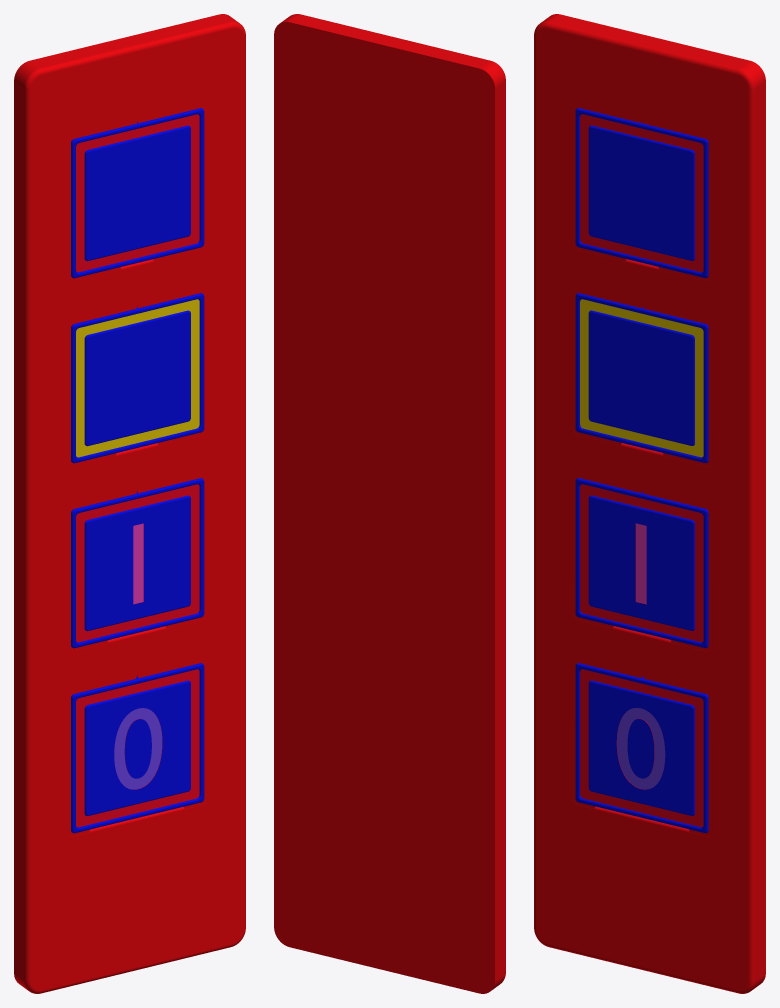
File: BUTON.fbx
The picture shows the model from 3 angles, left to right: view 1: azimuth 30°, elevation 25°; view 2: azimuth 150°, elevation 25°; view 3: azimuth 330°, elevation 25°; orthographic projection.
Parts seen in each view (by area): view 1: PANEL 1; view 2: PANEL 1; view 3: PANEL 1.
Part boxes in pixels (bbox=[...]): PANEL 1: bbox=[14, 14, 245, 993]; PANEL 1: bbox=[274, 14, 505, 993]; PANEL 1: bbox=[534, 14, 765, 993].
Bounding box in the file's own units: 5 × 20 × 0.5551.
